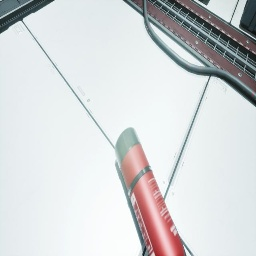FireExtinguisher ]: (114, 127, 187, 256)
